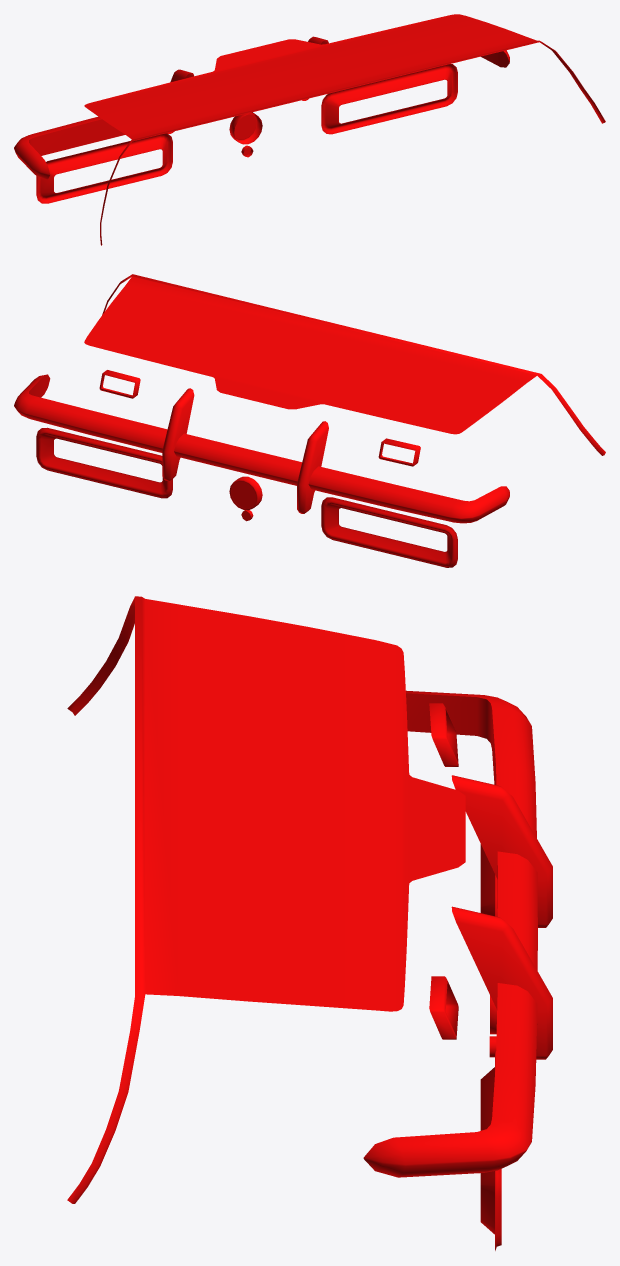
The model's file is Camaro_BB01_Trim.fbx.
3 views of the same model, one above another, from view 1: azimuth 30°, elevation 25°; view 2: azimuth 150°, elevation 25°; view 3: azimuth 270°, elevation 25° (orthographic). The views are drawn at different scales.
Visible parts, largest first — view 1: Camaro_BB01_Trim; view 2: Camaro_BB01_Trim; view 3: Camaro_BB01_Trim.
Boxes of the visible parts, bbox=[...] form: Camaro_BB01_Trim: bbox=[14, 14, 605, 245]; Camaro_BB01_Trim: bbox=[14, 274, 605, 567]; Camaro_BB01_Trim: bbox=[67, 596, 552, 1250].
Bounding box in the file's own units: 1.85 × 0.7739 × 0.4598.
